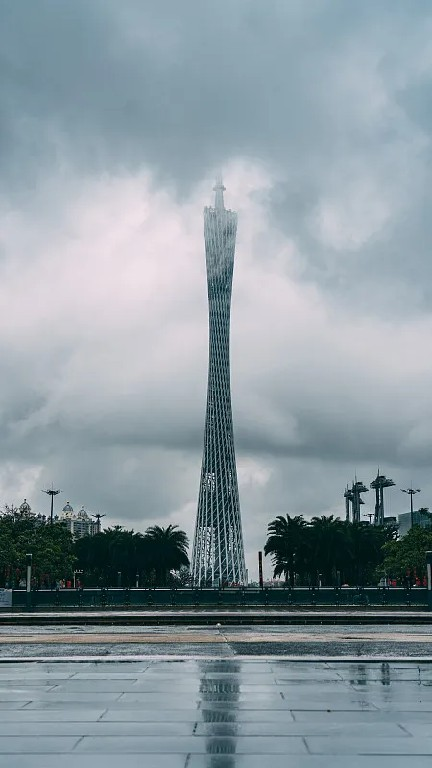Canton: (186, 137, 257, 589)
